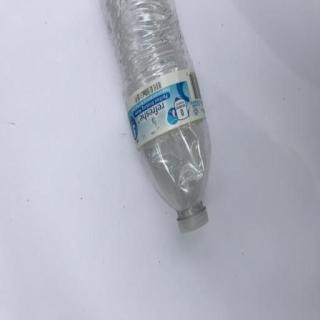Plastic-bottle: (100, 1, 215, 238)
